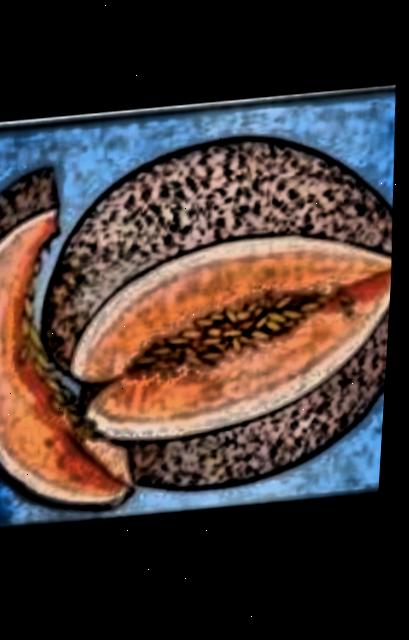El Melon: (0, 97, 404, 531)
